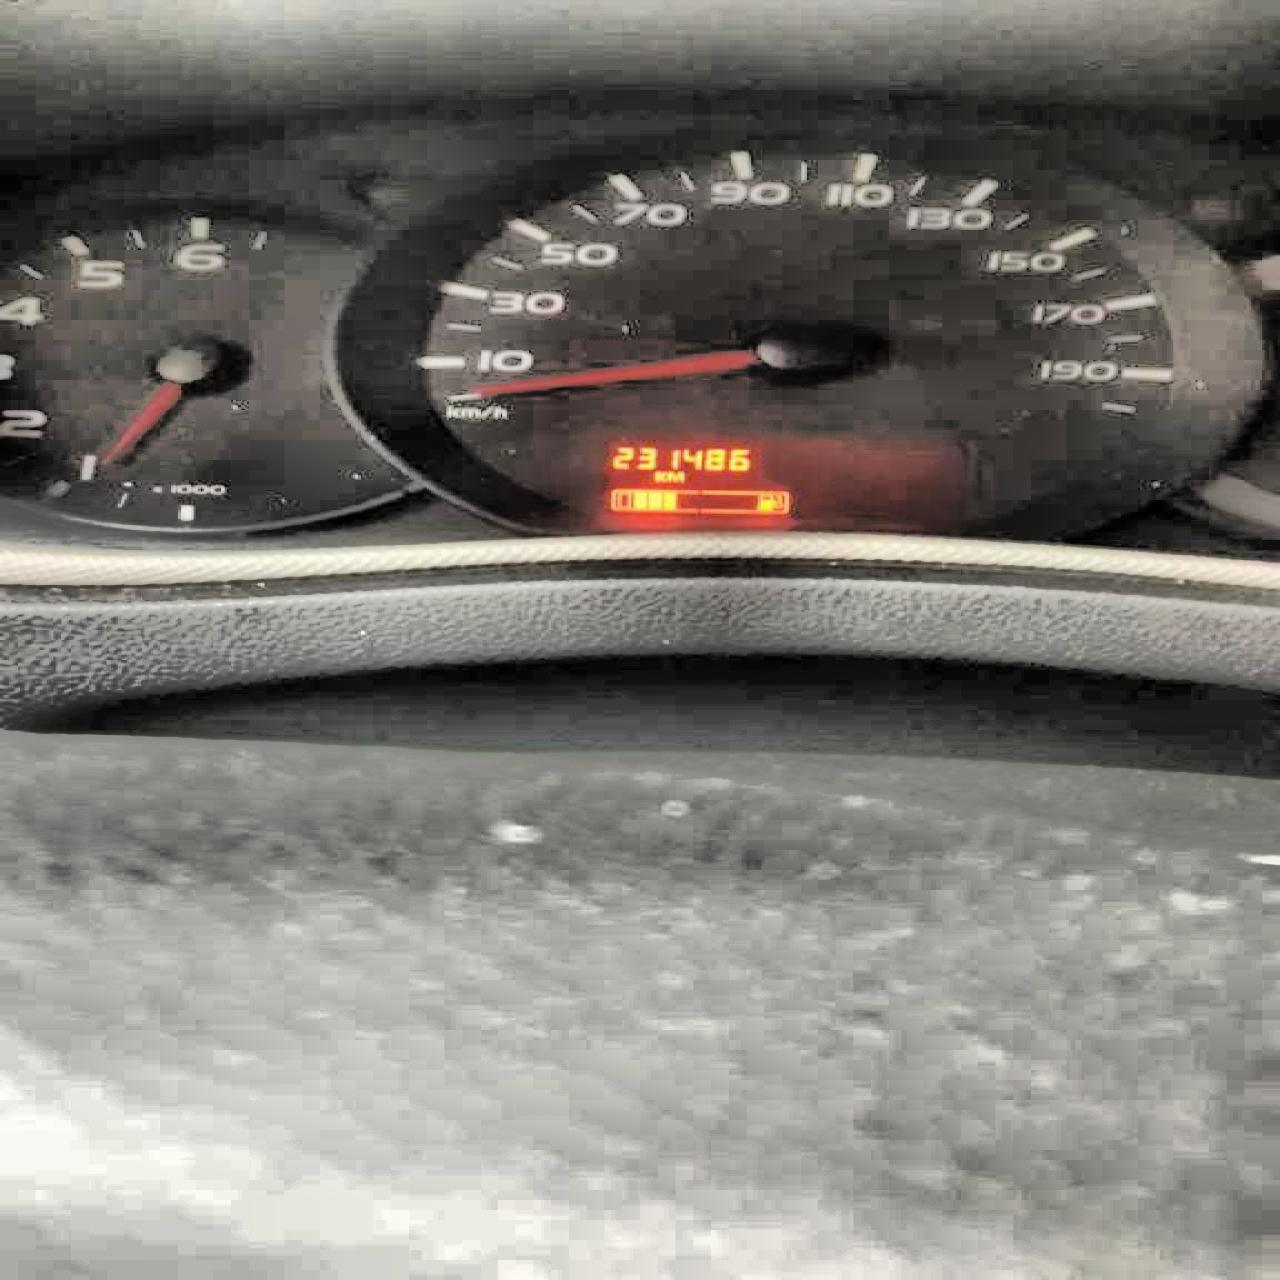1: (669, 447, 678, 469)
2: (610, 445, 631, 469)
3: (633, 445, 655, 470)
4: (680, 448, 702, 469)
6: (727, 448, 749, 471)
8: (702, 445, 724, 470)
X: (667, 469, 685, 483), (654, 470, 665, 482)
odometer: (595, 435, 972, 531)
